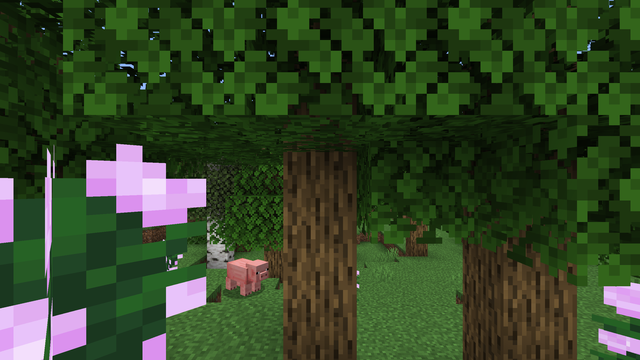cochons: (225, 258, 260, 295)
